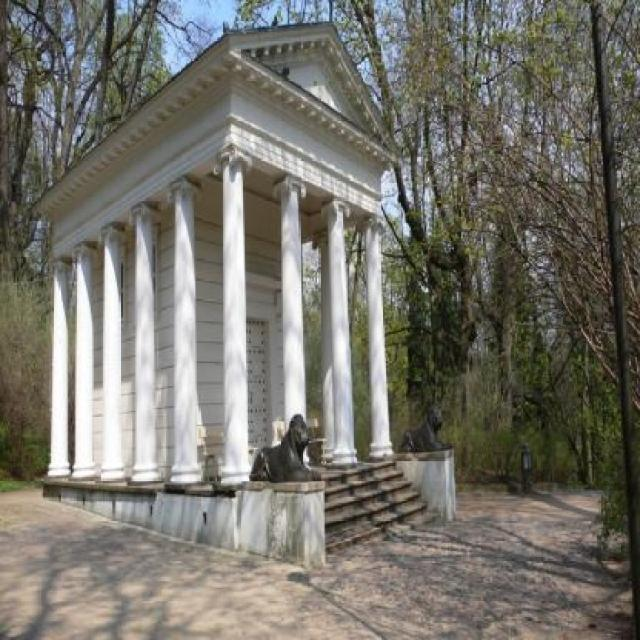stair: (316, 462, 436, 558)
